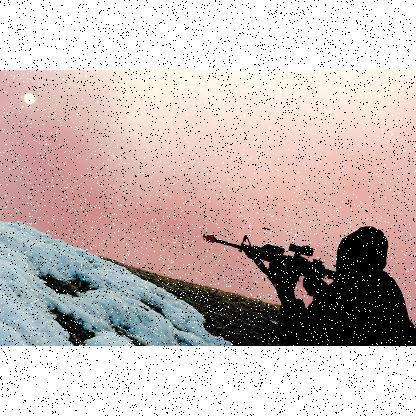gun: (208, 234, 348, 306)
